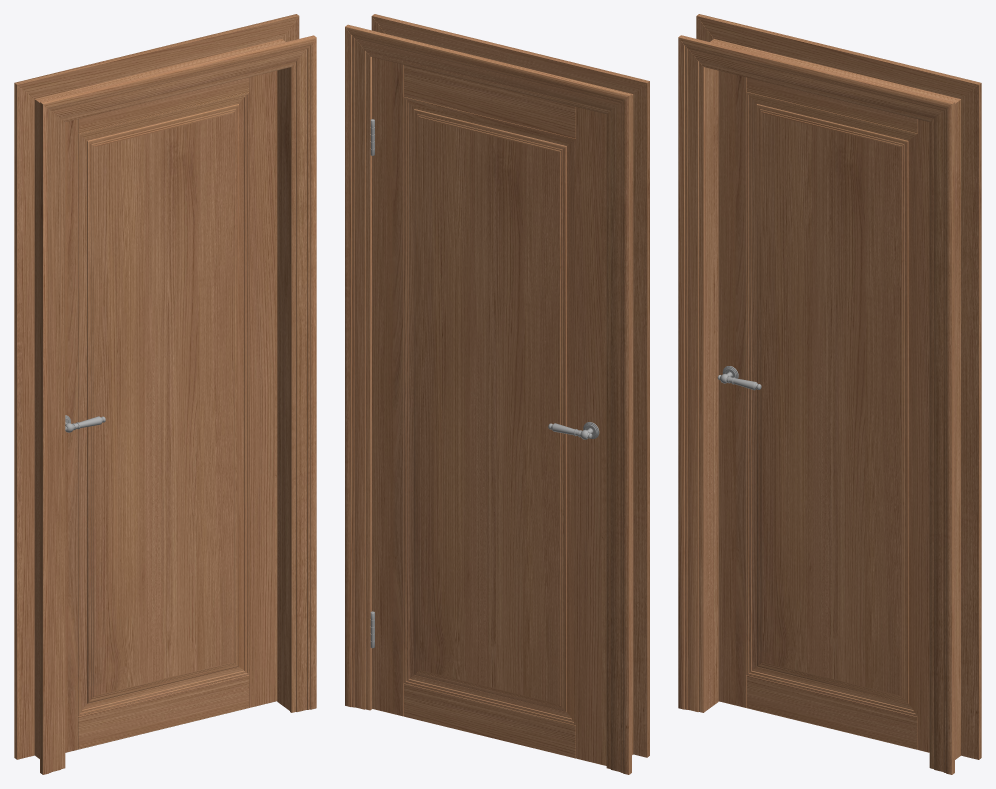
File: Single_Door.glb
The picture shows the model from 3 angles, left to right: view 1: azimuth 30°, elevation 25°; view 2: azimuth 150°, elevation 25°; view 3: azimuth 330°, elevation 25°; orthographic projection.
Parts seen in each view (by area): view 1: d2; view 2: d2; view 3: d2.
Boxes of the visible parts, <box> form: d2: <box>14,14,316,774</box>; d2: <box>345,14,649,774</box>; d2: <box>678,14,981,774</box>.
Bounding box in the file's own units: 0.9552 × 2.18 × 0.1796.
2 materials, 1 textured.
